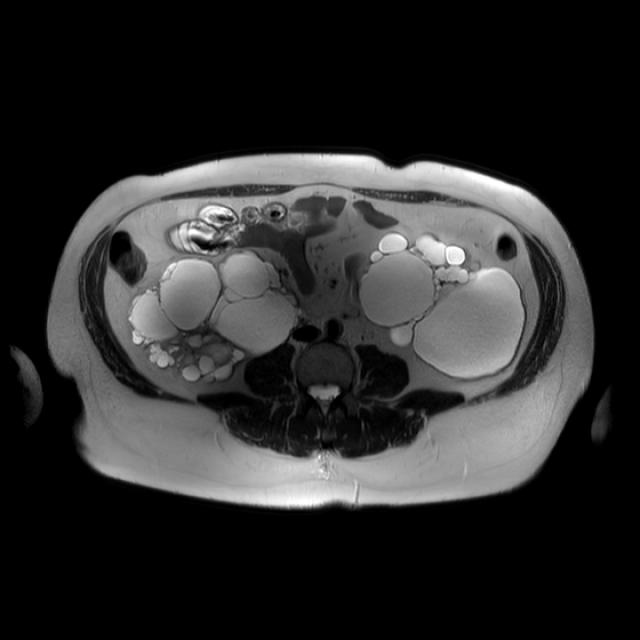sag: (130, 252, 300, 383)
sol: (363, 232, 527, 379)
